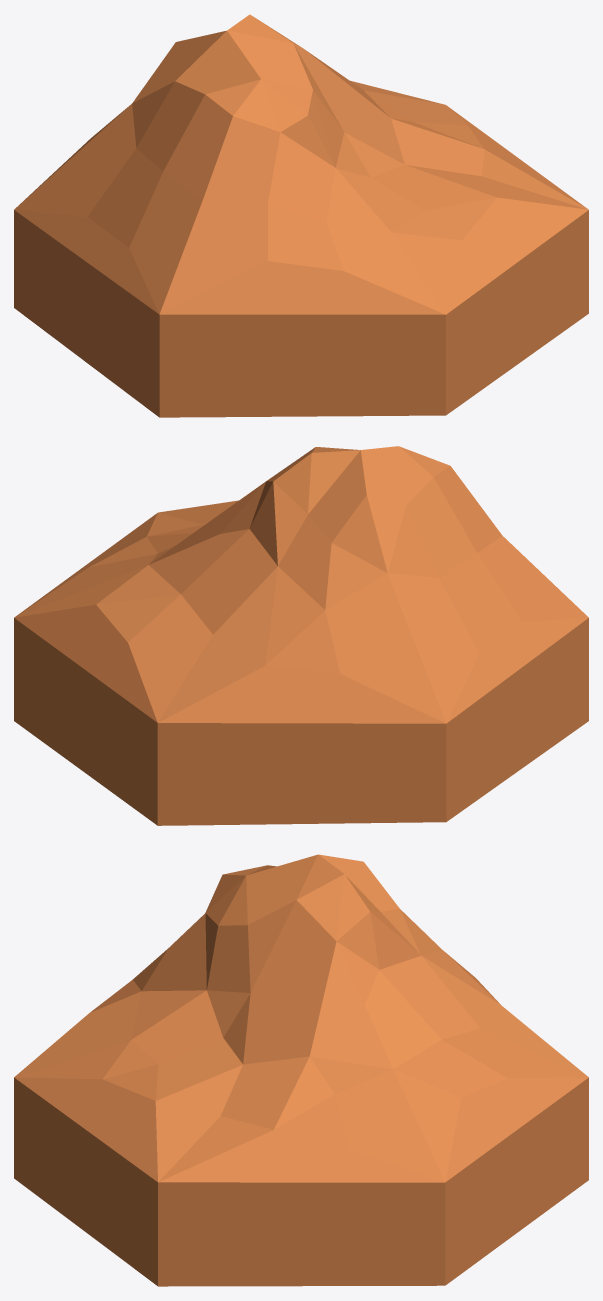
Rendered from hex_mountain_2.fbx.
3 renders of one model, top to bottom at view 1: azimuth 30°, elevation 25°; view 2: azimuth 150°, elevation 25°; view 3: azimuth 270°, elevation 25°, orthographic.
Visible parts, largest first — view 1: Circle; view 2: Circle; view 3: Circle.
Part boxes in pixels (<box>): Circle: <box>14,14,588,417</box>; Circle: <box>14,446,588,825</box>; Circle: <box>14,854,588,1286</box>.
Size of the model in its own units: 174 by 113 by 200.
